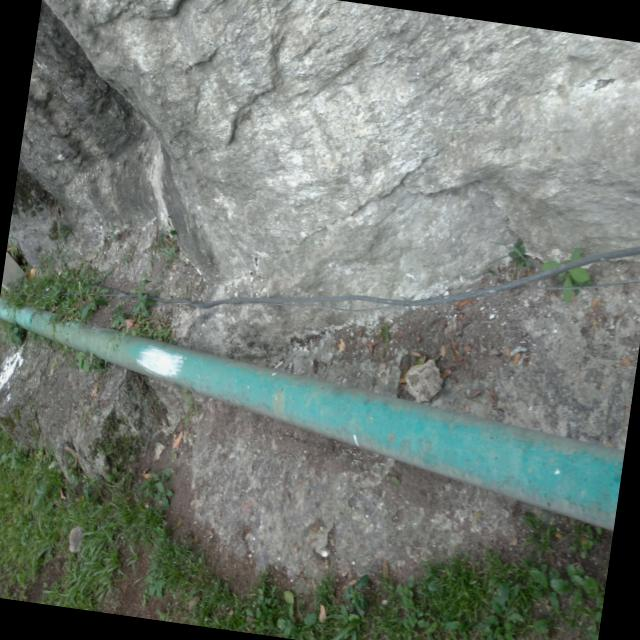gas: (0, 290, 625, 532)
